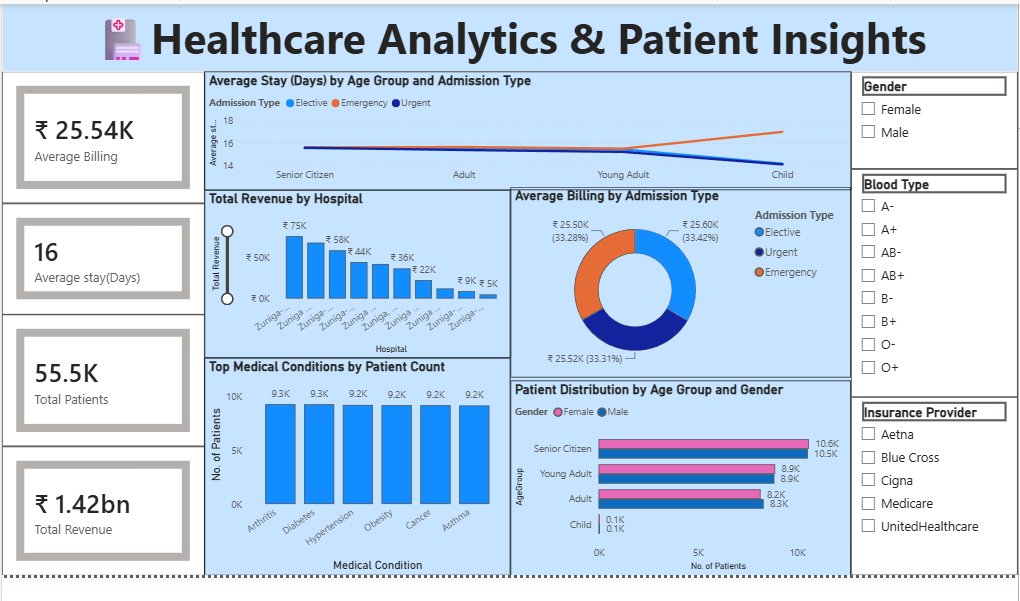

The page's visual inventory and layout, read from the dashboard file:
{"tool":"powerbi","page":{"name":"Page 1","canvas":[1280,720],"ordinal":0},"visuals":[{"type":"cardVisual","fields":{"Data":["healthcare_dataset.Avg Billing"]},"box":[0,85,255.1,166.3],"z":0},{"type":"cardVisual","fields":{"Data":["healthcare_dataset.Avg stay"]},"box":[0,251.3,255.1,139.8],"z":1000},{"type":"cardVisual","title":"PA","fields":{"Data":["healthcare_dataset.Total Patients"]},"box":[0,391.2,255.1,166.3],"z":2000},{"type":"cardVisual","fields":{"Data":["healthcare_dataset.Total revenue"]},"box":[0,557.5,255.1,162.5],"z":3000},{"type":"slicer","fields":{"Values":["healthcare_dataset.Blood Type"]},"box":[1069.6,207.9,209.8,287.2],"z":4000},{"type":"slicer","fields":{"Values":["healthcare_dataset.Insurance Provider"]},"box":[1069.6,495.1,209.8,224.9],"z":5000},{"type":"slicer","fields":{"Values":["healthcare_dataset.Gender"]},"box":[1069.6,85,209.8,122.8],"z":6000},{"type":"textbox","box":[0,0,1279.4,85],"z":7000},{"type":"clusteredColumnChart","fields":{"Y":["healthcare_dataset.Total revenue"],"Category":["healthcare_dataset.Hospital"]},"box":[255.1,234.3,385.5,211.7],"z":8000},{"type":"clusteredBarChart","title":"Patient Distribution by Age Group and Gender","fields":{"Category":["healthcare_dataset.AgeGroup"],"Y":["CountNonNull(healthcare_dataset.First name)"],"Series":["healthcare_dataset.Gender"]},"box":[640.6,474.3,429,245.7],"z":9000},{"type":"columnChart","title":"Top Medical Conditions by Patient Count","fields":{"Category":["healthcare_dataset.Medical Condition"],"Y":["CountNonNull(healthcare_dataset.Name)"]},"box":[255.1,446,385.5,274],"z":10000},{"type":"donutChart","fields":{"Category":["healthcare_dataset.Admission Type"],"Y":["healthcare_dataset.Avg Billing"]},"box":[640.6,230.6,429,240],"z":11000},{"type":"lineChart","title":"Average Stay (Days) by Age Group and Admission Type","fields":{"Y":["healthcare_dataset.Avg stay"],"Category":["healthcare_dataset.AgeGroup"],"Series":["healthcare_dataset.Admission Type"]},"box":[255.1,85,814.5,149.3],"z":12000}]}

Visuals, with their boxes in screenshot pixels (x1, y1, x2, y2):
cardVisual - healthcare_dataset.Avg Billing: 8 72 208 203
cardVisual - healthcare_dataset.Avg stay: 8 203 208 313
"PA" cardVisual: 8 313 208 443
cardVisual - healthcare_dataset.Total revenue: 8 443 208 571
slicer - healthcare_dataset.Blood Type: 849 169 1013 394
slicer - healthcare_dataset.Insurance Provider: 849 394 1013 571
slicer - healthcare_dataset.Gender: 849 72 1013 169
textbox: 8 5 1013 72
clusteredColumnChart - healthcare_dataset.Total revenue x healthcare_dataset.Hospital: 208 189 511 356
"Patient Distribution by Age Group and Gender" clusteredBarChart: 511 378 849 571
"Top Medical Conditions by Patient Count" columnChart: 208 356 511 571
donutChart - healthcare_dataset.Admission Type x healthcare_dataset.Avg Billing: 511 187 849 375
"Average Stay (Days) by Age Group and Admission Type" lineChart: 208 72 849 189
